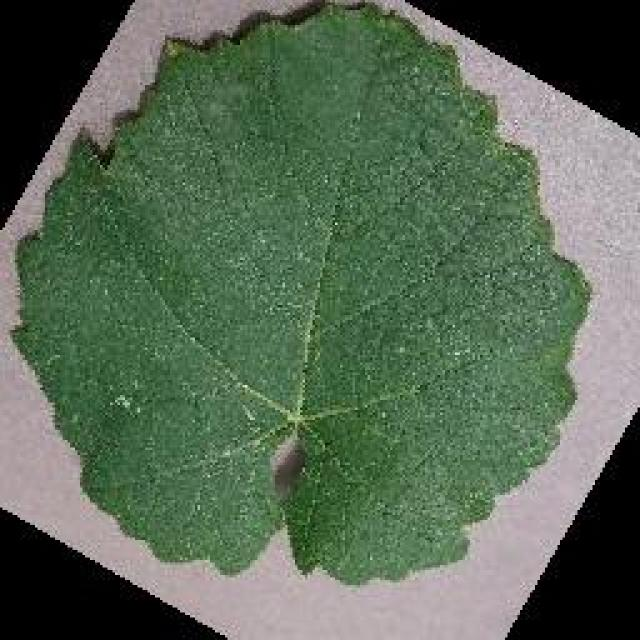Grape___healthy: (15, 10, 585, 582)
